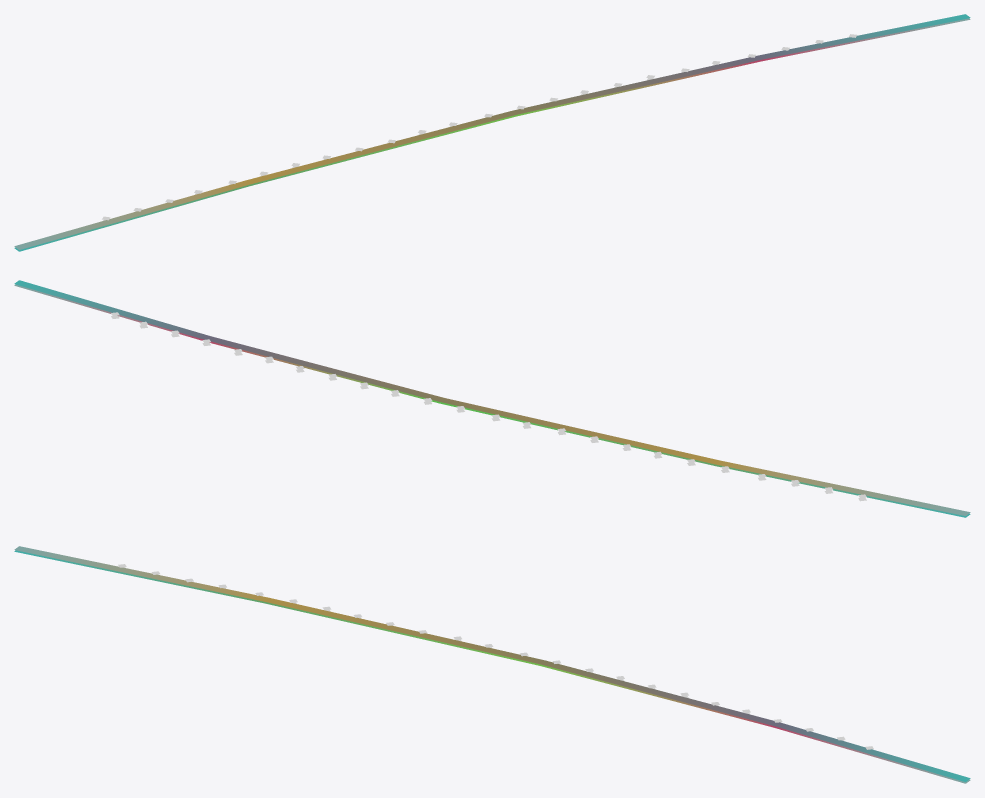
File: String_Lights.glb
3 renders of one model, top to bottom at view 1: azimuth 30°, elevation 25°; view 2: azimuth 150°, elevation 25°; view 3: azimuth 330°, elevation 25°, orthographic.
Parts seen in each view (by area): view 1: MeshNode_1, MeshNode_0; view 2: MeshNode_1, MeshNode_0; view 3: MeshNode_1, MeshNode_0.
Part boxes in pixels (bbox=[...]): MeshNode_1: bbox=[14, 14, 970, 251]; MeshNode_0: bbox=[102, 34, 856, 220]; MeshNode_1: bbox=[14, 280, 970, 517]; MeshNode_0: bbox=[111, 312, 866, 501]; MeshNode_1: bbox=[14, 546, 970, 783]; MeshNode_0: bbox=[118, 564, 873, 749].
Size of the model in its own units: 51.62 by 0.1612 by 2.18.
